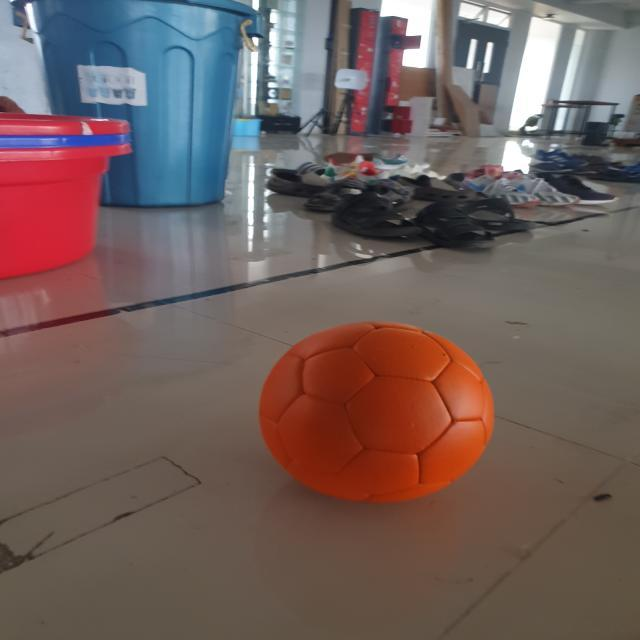bola: (235, 302, 525, 520)
